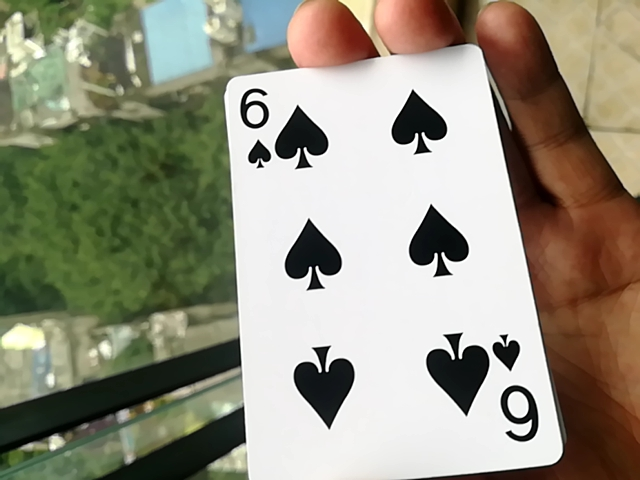ht 6: (222, 55, 567, 477)
